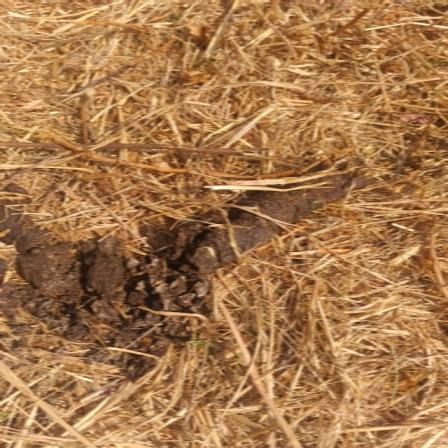dog-poop: (170, 166, 352, 256), (95, 260, 180, 345)
